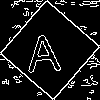A: (25, 25, 62, 73)
